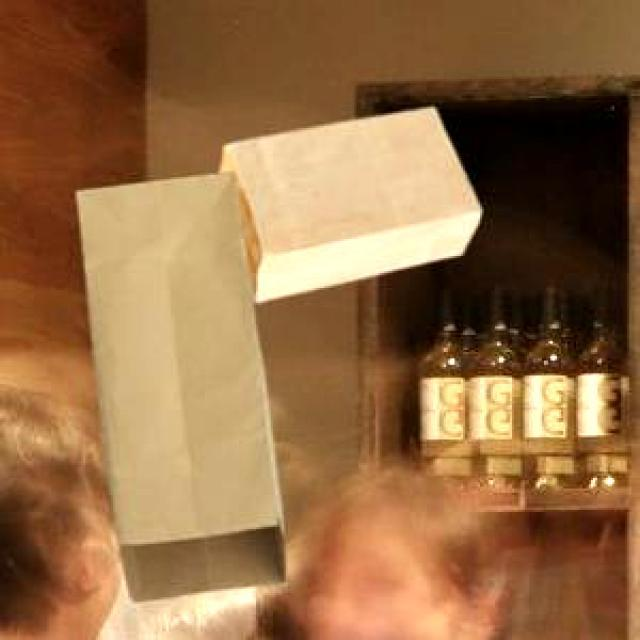Paper_Bag: (74, 170, 282, 598), (216, 104, 479, 298)
